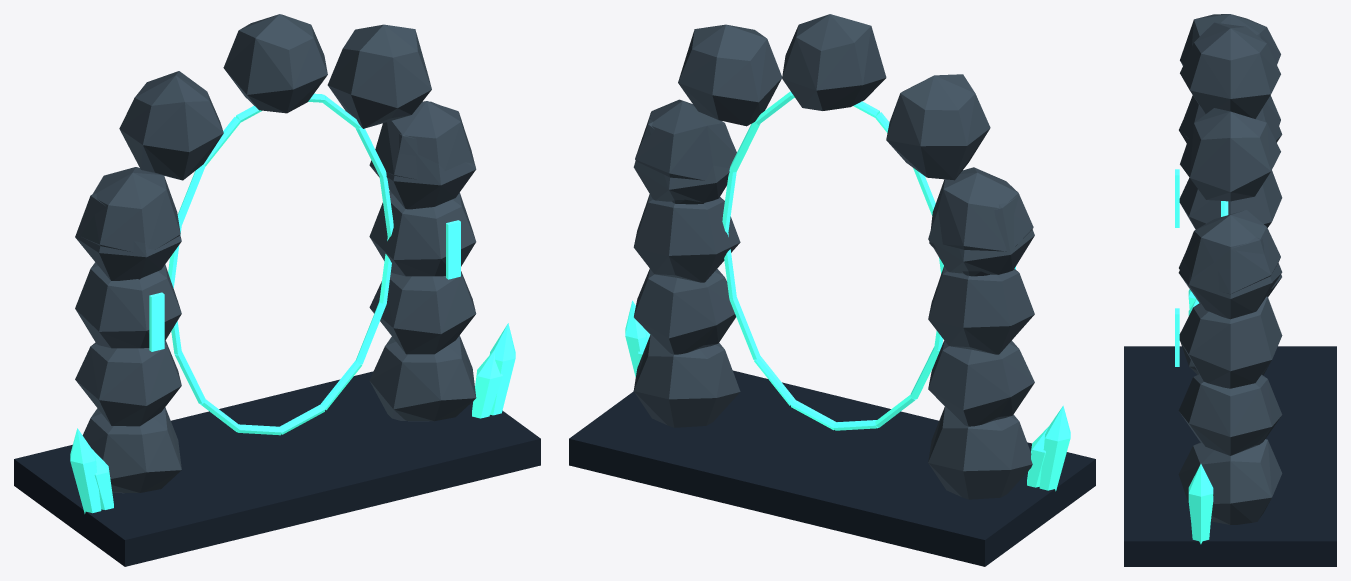
Rendered from Return_Portal.gltf.
The picture shows the model from 3 angles, left to right: view 1: azimuth 30°, elevation 25°; view 2: azimuth 150°, elevation 25°; view 3: azimuth 270°, elevation 25°; orthographic projection. The views are drawn at different scales.
Visible parts, largest first — view 1: Base_0, Arch_16, Arch_18, Arch_17, Pillar_8, Pillar_2, Pillar_9, Arch_19, Pillar_3, Pillar_1, Pillar_10, Arch_15 (+8 smaller); view 2: Base_0, Arch_18, Arch_16, Arch_17, Pillar_8, Pillar_1, Pillar_3, Pillar_10, Pillar_2, Pillar_9, Arch_19, Arch_15 (+5 smaller); view 3: Base_0, Arch_16, Arch_17, Pillar_10, Pillar_9, Pillar_8, Arch_15, Pillar_11, Pillar_3, BaseCrystal_14, Arch_18, Arch_19 (+2 smaller).
Part boxes in pixels (left/top/right/bottom): Base_0: left=14, top=371, right=540, bottom=566; Arch_16: left=327, top=24, right=431, bottom=128; Arch_18: left=119, top=71, right=223, bottom=180; Arch_17: left=223, top=14, right=327, bottom=113; Pillar_8: left=369, top=335, right=476, bottom=421; Pillar_2: left=75, top=340, right=181, bottom=426; Pillar_9: left=369, top=271, right=476, bottom=354; Arch_19: left=80, top=167, right=180, bottom=279; Pillar_3: left=75, top=262, right=181, bottom=348; Pillar_1: left=82, top=407, right=181, bottom=493; Pillar_10: left=369, top=190, right=476, bottom=276; Arch_15: left=375, top=101, right=473, bottom=179; Base_0: left=569, top=370, right=1095, bottom=566; Arch_18: left=886, top=74, right=990, bottom=180; Arch_16: left=678, top=24, right=782, bottom=126; Arch_17: left=782, top=14, right=886, bottom=110; Pillar_8: left=633, top=335, right=740, bottom=427; Pillar_1: left=928, top=407, right=1032, bottom=499; Pillar_3: left=928, top=266, right=1034, bottom=354; Pillar_10: left=633, top=194, right=740, bottom=282; Pillar_2: left=928, top=340, right=1034, bottom=426; Pillar_9: left=634, top=268, right=735, bottom=354; Arch_19: left=929, top=167, right=1033, bottom=276; Arch_15: left=635, top=99, right=736, bottom=204; Base_0: left=1124, top=346, right=1336, bottom=566; Arch_16: left=1180, top=108, right=1280, bottom=201; Arch_17: left=1180, top=22, right=1280, bottom=118; Pillar_10: left=1179, top=296, right=1282, bottom=388; Pillar_9: left=1178, top=374, right=1282, bottom=455; Pillar_8: left=1178, top=439, right=1282, bottom=524; Arch_15: left=1184, top=210, right=1280, bottom=294; Pillar_11: left=1179, top=219, right=1282, bottom=319; Pillar_3: left=1179, top=170, right=1282, bottom=229; BaseCrystal_14: left=1188, top=464, right=1213, bottom=544; Arch_18: left=1180, top=14, right=1280, bottom=65; Arch_19: left=1182, top=95, right=1280, bottom=138.
Bounding box in the file's own units: 4.18 × 4.13 × 1.8.
